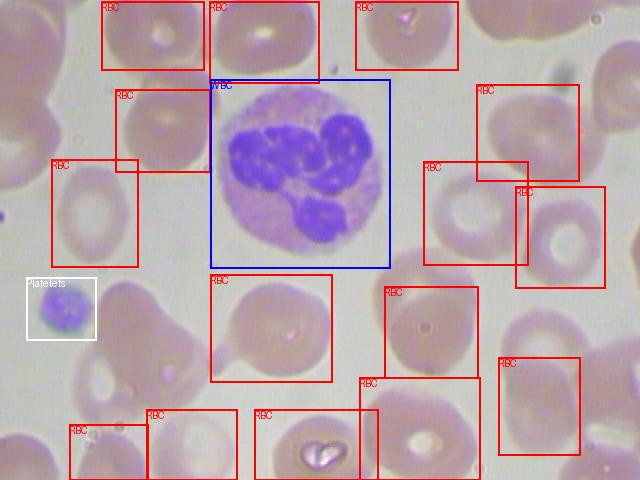Platelets: (26, 277, 96, 340)
RBC: (210, 274, 332, 382), (359, 377, 480, 480), (423, 161, 528, 265), (476, 84, 579, 181), (51, 159, 138, 267), (515, 186, 605, 288), (209, 1, 319, 83), (254, 409, 378, 480), (384, 286, 478, 378), (498, 357, 580, 455), (115, 89, 210, 172), (101, 1, 204, 70), (355, 1, 458, 70), (146, 409, 237, 480), (69, 424, 148, 480)
WBC: (210, 79, 390, 268)
